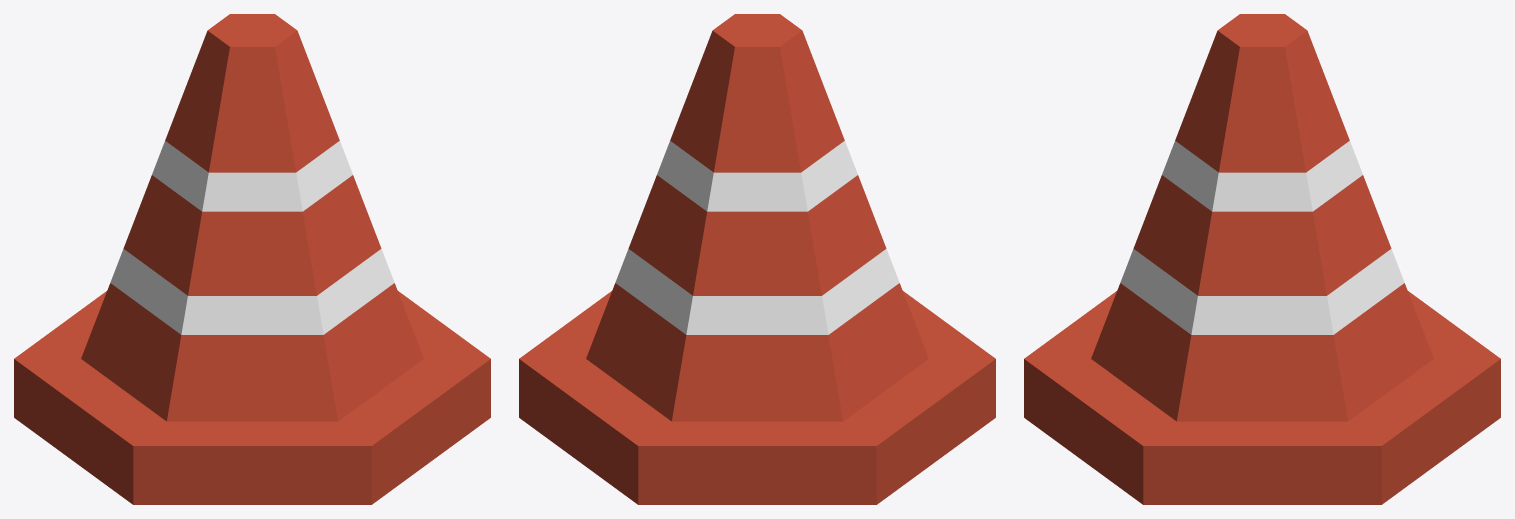
The model's file is prp_2.fbx.
3 renders of one model, left to right at view 1: azimuth 30°, elevation 25°; view 2: azimuth 150°, elevation 25°; view 3: azimuth 270°, elevation 25°, orthographic.
Parts seen in each view (by area): view 1: Cone; view 2: Cone; view 3: Cone.
Boxes of the visible parts, <box> form: Cone: <box>14,14,490,504</box>; Cone: <box>519,14,995,504</box>; Cone: <box>1024,14,1500,504</box>.
Bounding box in the file's own units: 1.73 × 1.79 × 2.
